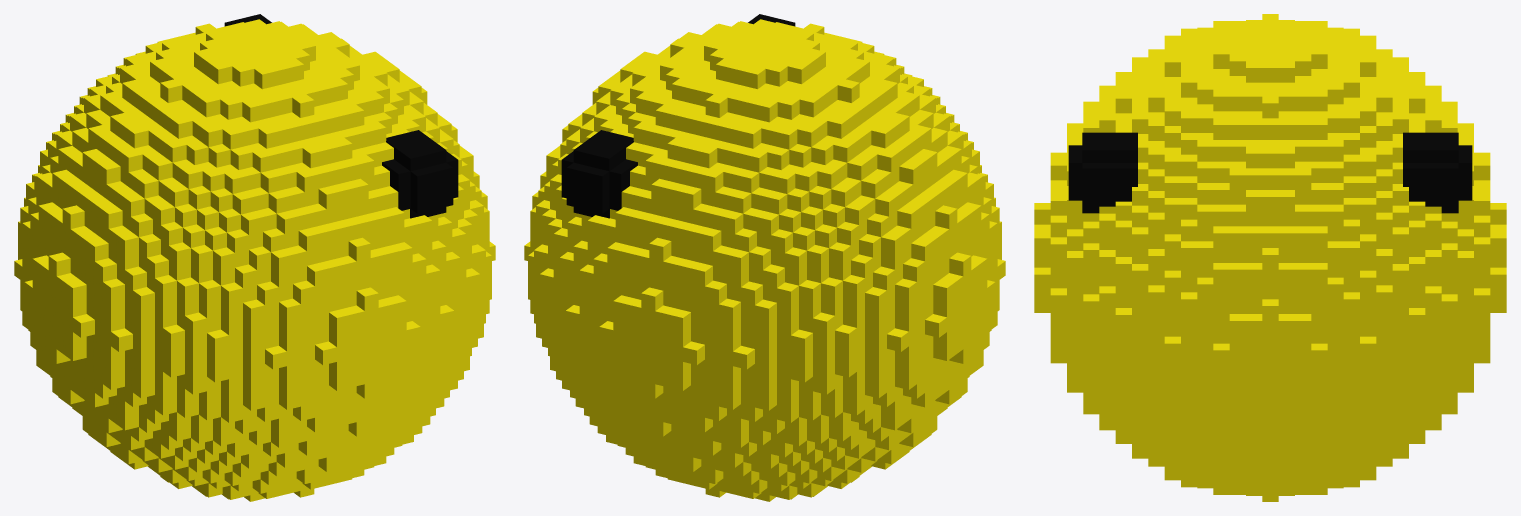
The model's file is pacman_idle.fbx.
3 renders of one model, left to right at view 1: azimuth 30°, elevation 25°; view 2: azimuth 150°, elevation 25°; view 3: azimuth 270°, elevation 25°, orthographic.
Visible parts, largest first — view 1: Sphere, Sphere.001; view 2: Sphere, Sphere.001; view 3: Sphere, Sphere.001.
Part boxes in pixels (x1,y1,x2,y2): Sphere: [14, 19, 495, 501]; Sphere.001: [224, 14, 458, 218]; Sphere: [524, 19, 1005, 501]; Sphere.001: [561, 14, 795, 218]; Sphere: [1034, 14, 1506, 501]; Sphere.001: [1068, 132, 1472, 213].
Bounding box in the file's own units: 201 × 201 × 201.
